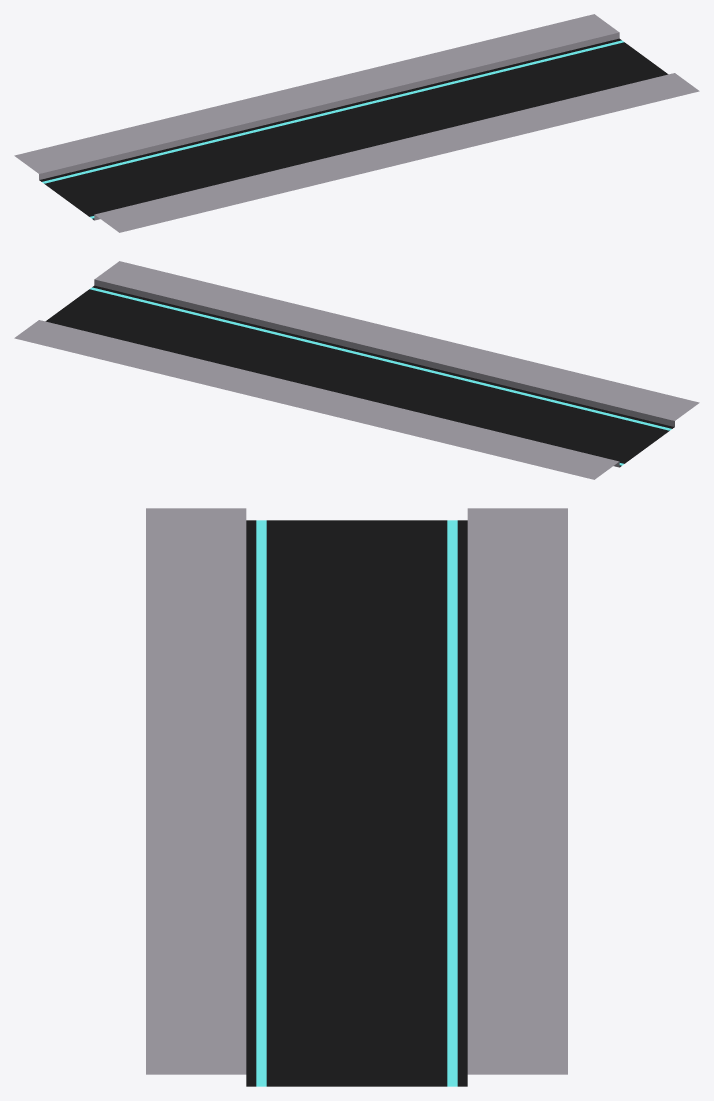
The model's file is 1-via-3x20.fbx.
The picture shows the model from 3 angles, top to bottom: view 1: azimuth 30°, elevation 25°; view 2: azimuth 150°, elevation 25°; view 3: azimuth 270°, elevation 25°; orthographic projection. The views are drawn at different scales.
Parts seen in each view (by area): view 1: Model; view 2: Model; view 3: Model.
Boxes of the visible parts, x1,y1,x2,y2 form: Model: (14,14,699,232); Model: (14,261,699,479); Model: (146,508,567,1086).
Size of the model in its own units: 20 by 0.2 by 6.3.
